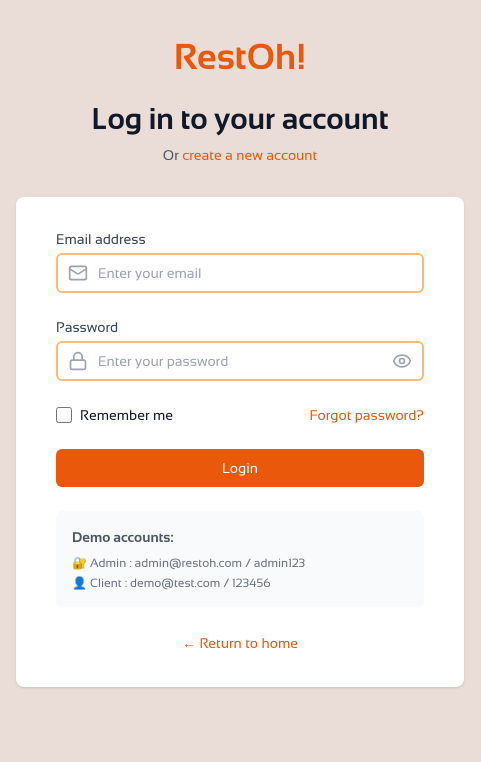
it: Login Component › Account Locked (Brute Force Protection) › should display locked account message with remaining time
Step 1. Type "locked@example.com" into the field labelled "Email address" → coordinates (240, 273), box x1=56 y1=253 x2=424 y2=293
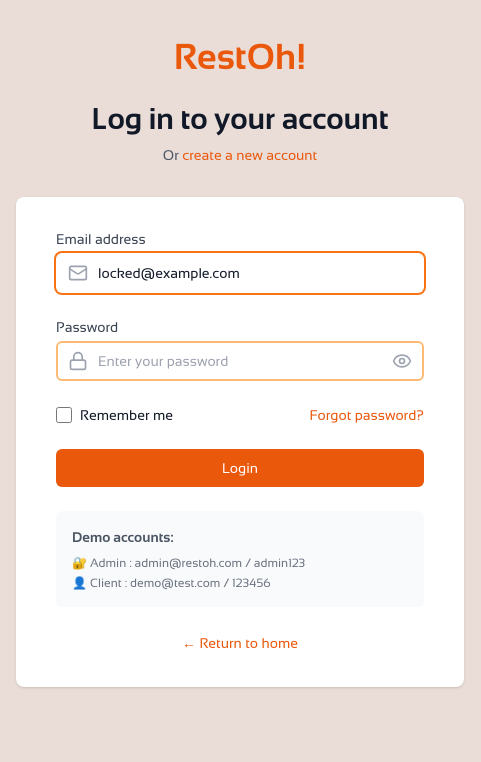
Step 2. Type "wrongpassword" into the password field labelled "Password" → coordinates (240, 361), box x1=56 y1=341 x2=424 y2=381
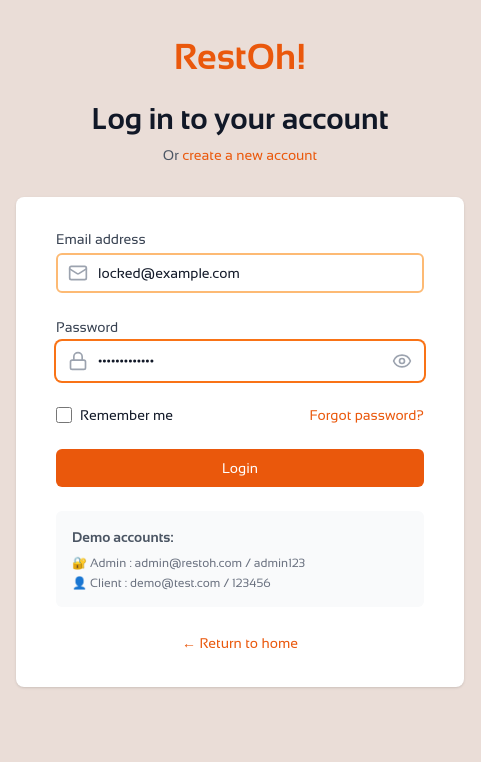
Step 3. Click the button "Login" → coordinates (240, 468), box x1=56 y1=449 x2=424 y2=487
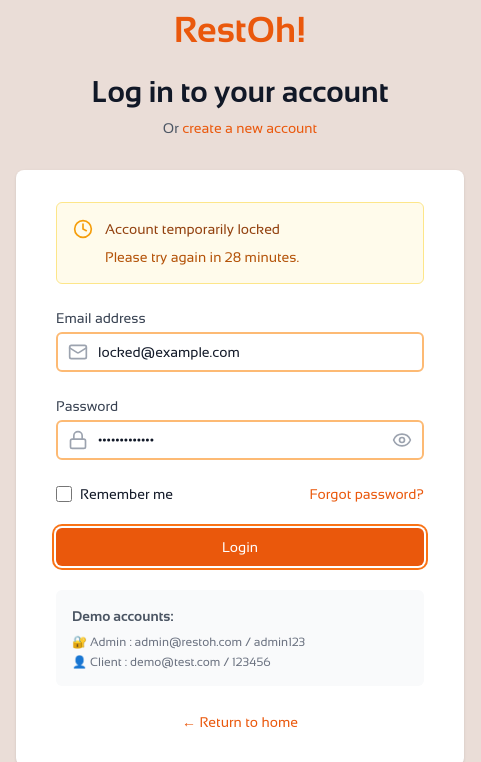
Expected: the heading "Account temporarily locked" is shown, x1=105 y1=221 x2=280 y2=237
Expected: the text "Please try again in 28 minutes." is shown, x1=105 y1=249 x2=299 y2=265
